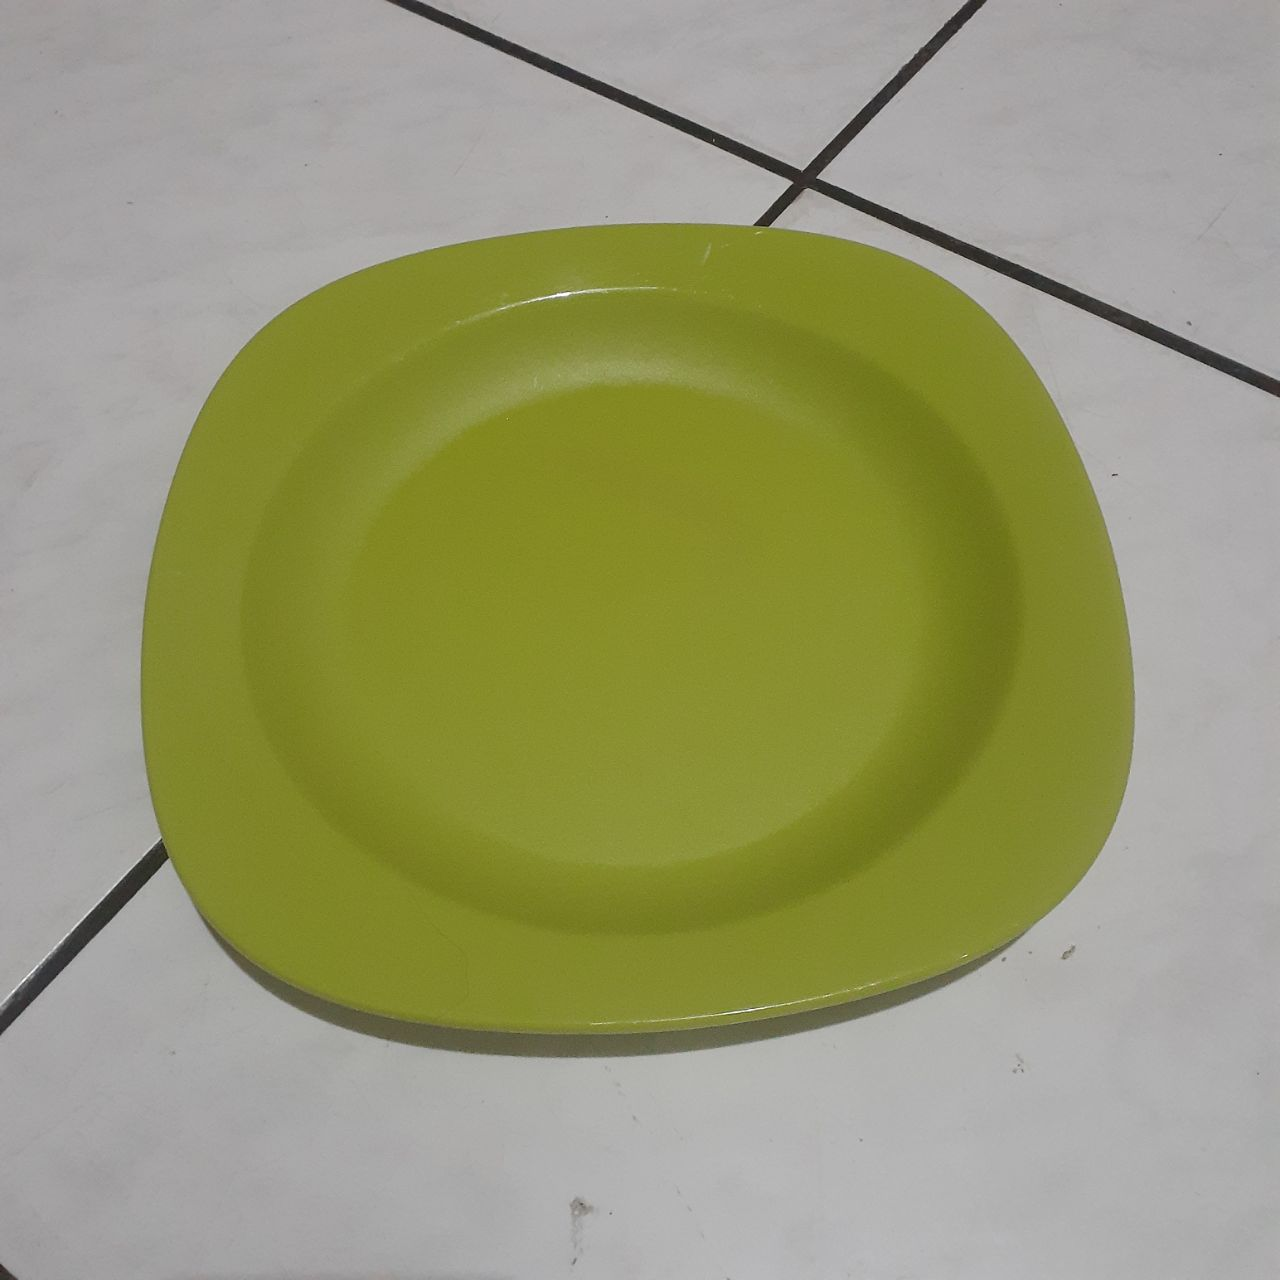piring: (141, 224, 1141, 1037)
